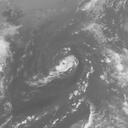cyclone: (54, 54, 81, 76)
